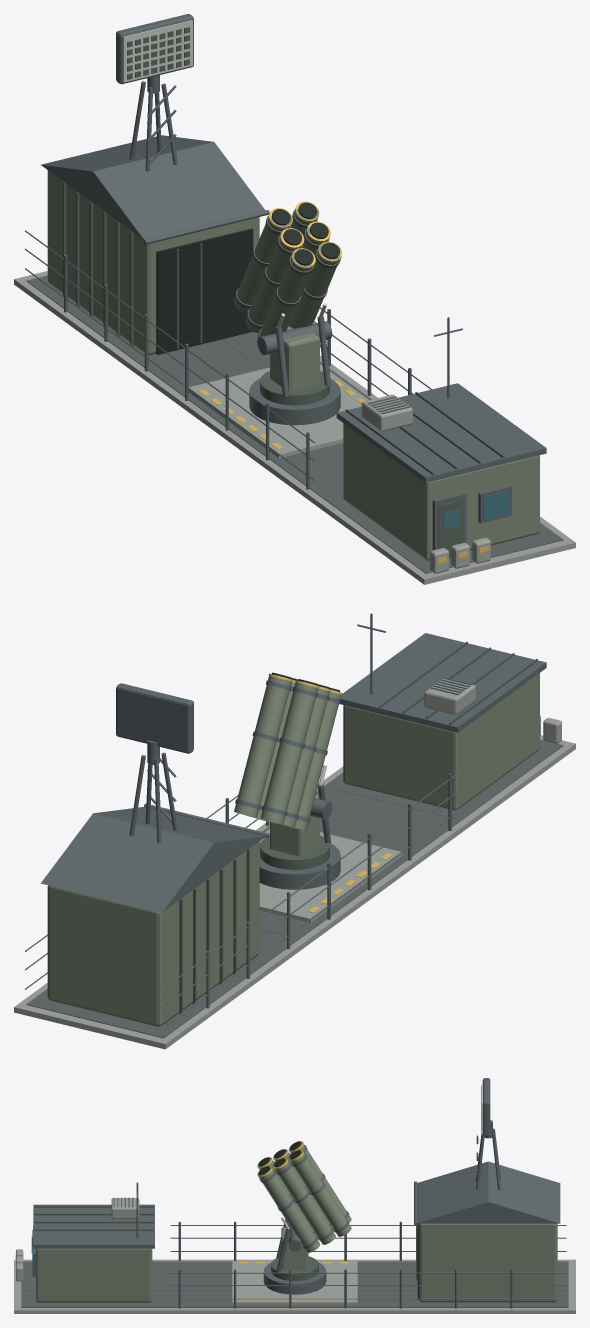
Rendered from military_1x4_b.glb.
3 renders of one model, top to bottom at view 1: azimuth 30°, elevation 25°; view 2: azimuth 150°, elevation 25°; view 3: azimuth 270°, elevation 25°, orthographic. The views are drawn at different scales.
Visible parts, largest first — view 1: military_1x4_b_foundation; view 2: military_1x4_b_foundation; view 3: military_1x4_b_foundation.
Boxes of the visible parts, <box> form: military_1x4_b_foundation: <box>14,14,575,584</box>; military_1x4_b_foundation: <box>14,613,575,1049</box>; military_1x4_b_foundation: <box>14,1078,575,1313</box>.
Bounding box in the file's own units: 6.5 × 11.9 × 30.5.
